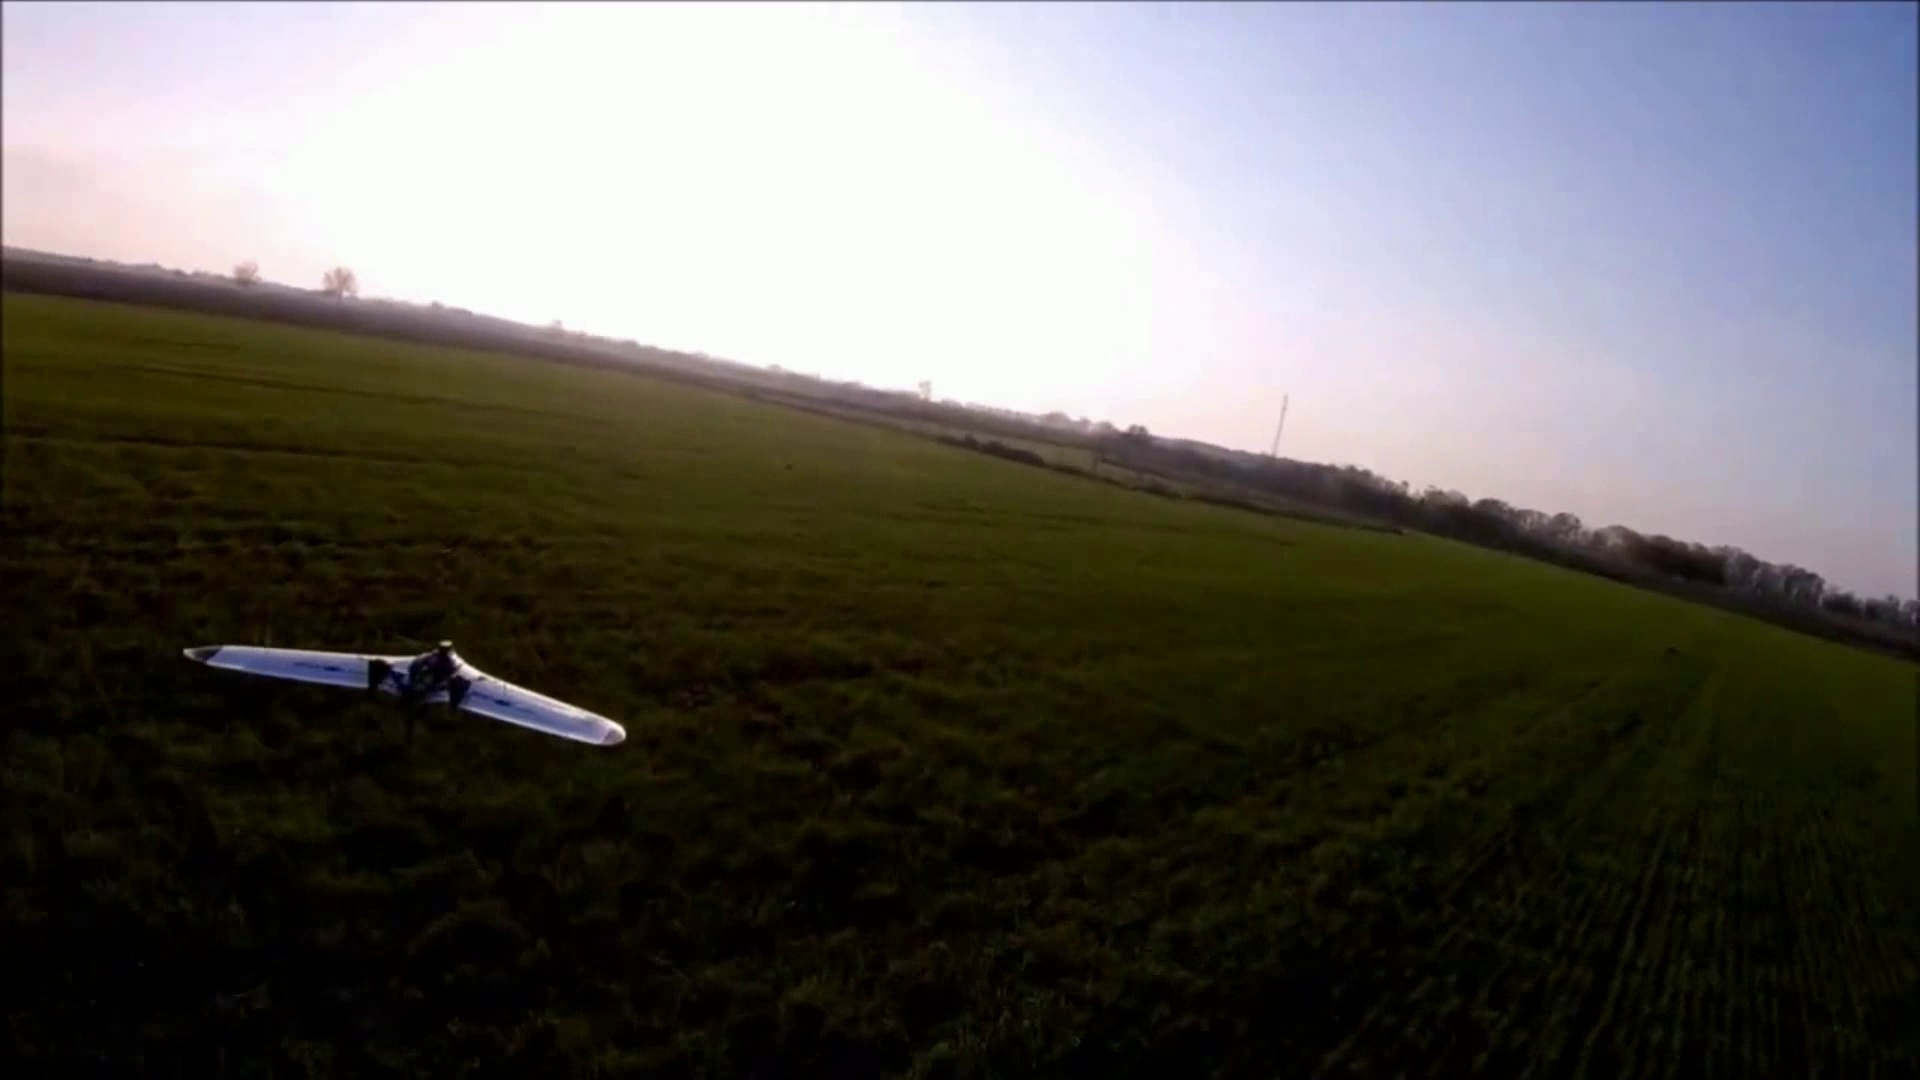airplane: (185, 642, 625, 752)
